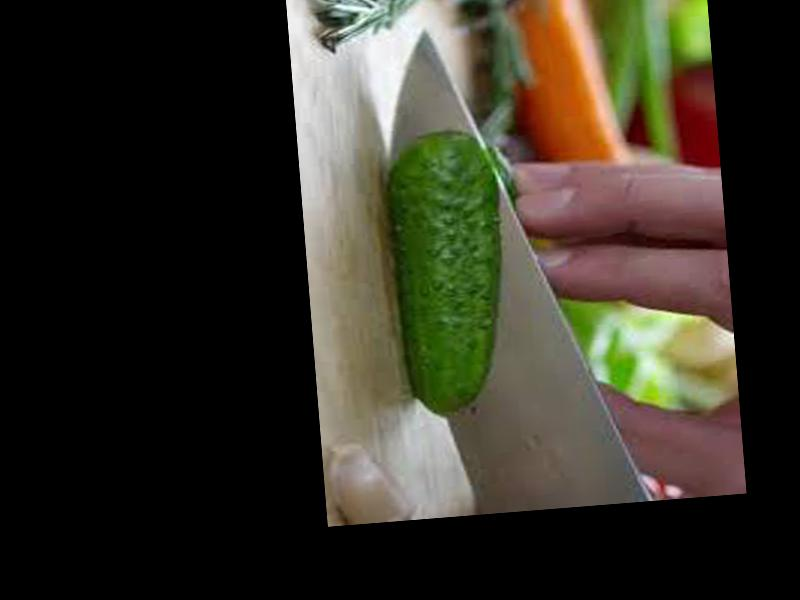Cucumber: (379, 126, 516, 417)
